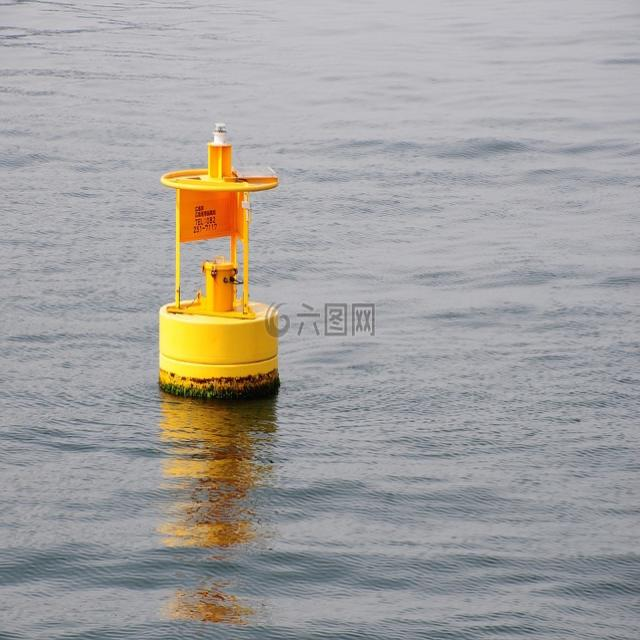buoy: (152, 117, 288, 395)
